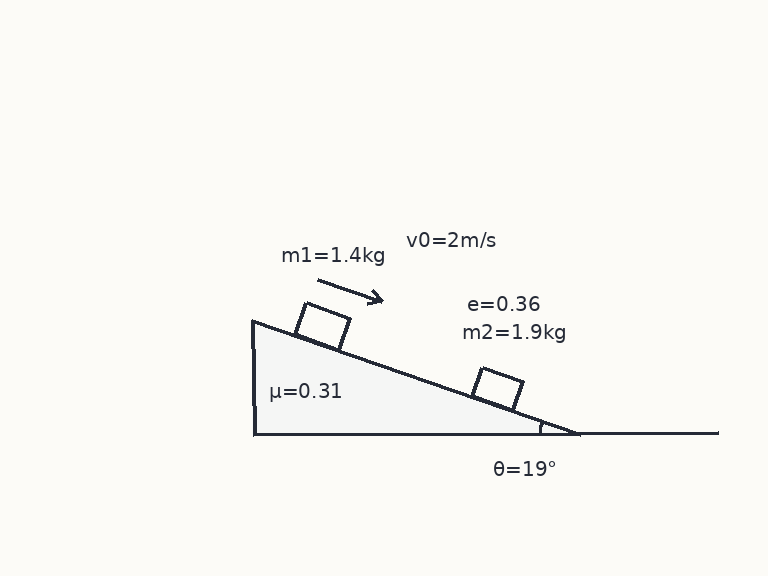block: (292, 300, 351, 352), (470, 365, 524, 411)
ramp: (251, 318, 582, 435)
